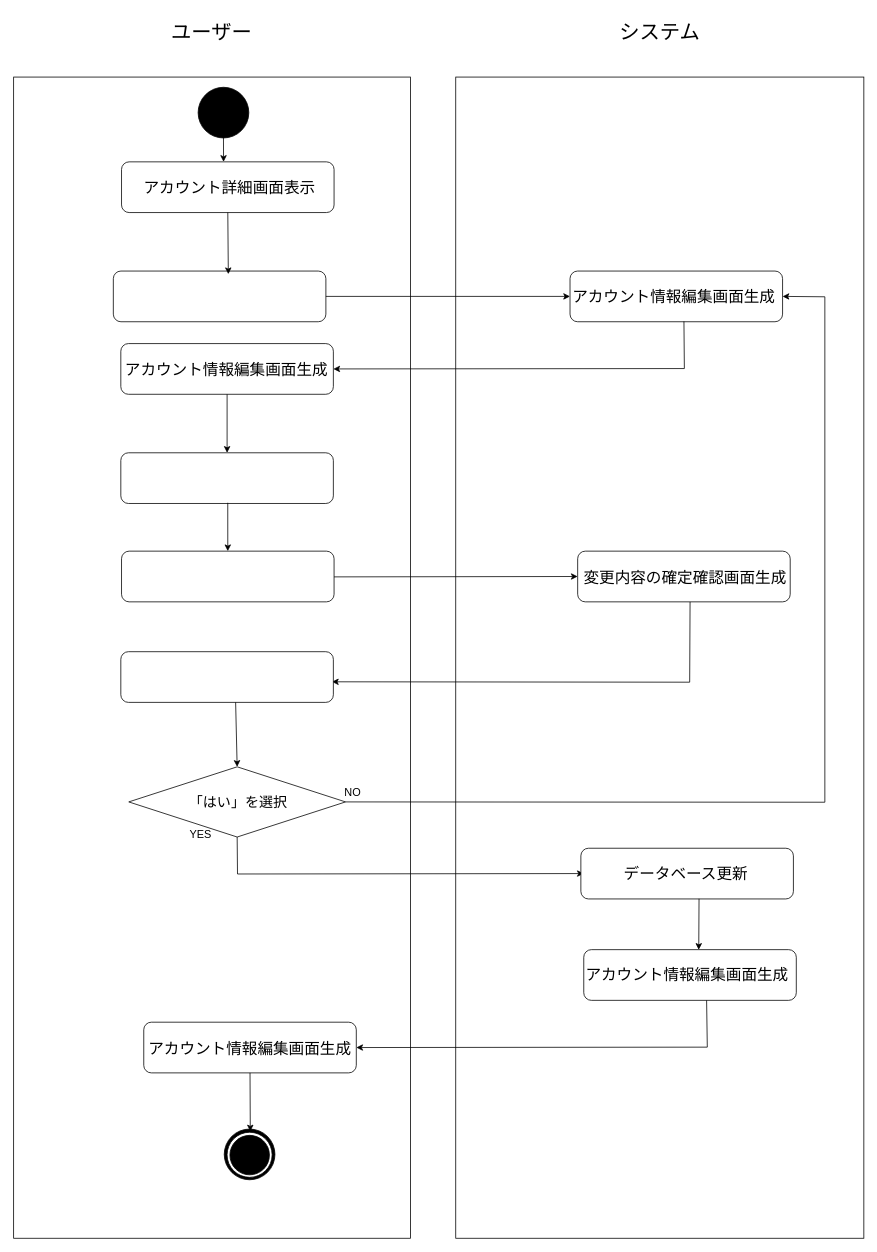
The diagram is 877 pixels wide and 1252 high, and some of its shapes have lost their labels. The shapes that lost their labels are listed below. From the top down, each one's centre as x and y in pixels, then its label:
point 219,296: 「編集」を選択
point 226,477: 情報を編集する
point 227,576: 「変更」を選択
point 226,676: 変更内容の確定確認画面表示
